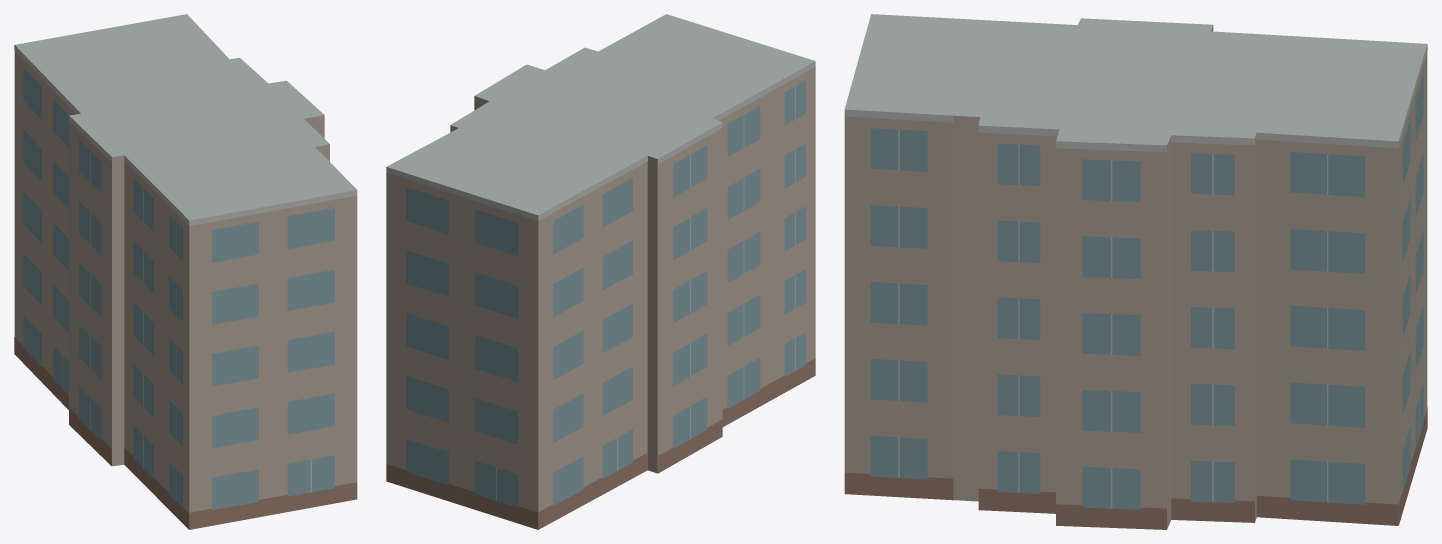
File: survey-upis-32595235.glb
3 views of the same model, side by side, from view 1: azimuth 30°, elevation 25°; view 2: azimuth 150°, elevation 25°; view 3: azimuth 270°, elevation 25° (orthographic). The views are drawn at different scales.
Visible parts, largest first — view 1: survey-upis-32595235.tmp; view 2: survey-upis-32595235.tmp; view 3: survey-upis-32595235.tmp.
Boxes of the visible parts, x1,y1,x2,y2 form: survey-upis-32595235.tmp: [14, 14, 357, 529]; survey-upis-32595235.tmp: [386, 14, 815, 529]; survey-upis-32595235.tmp: [844, 14, 1427, 529].
Size of the model in its own units: 9.9 by 13.5 by 18.56.
